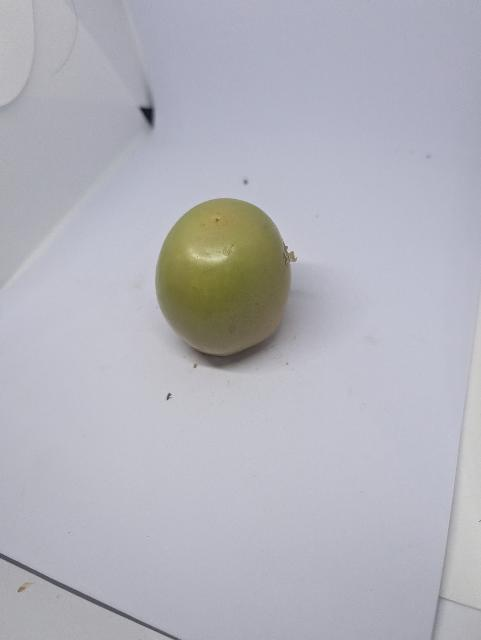breaker: (156, 198, 297, 355)
